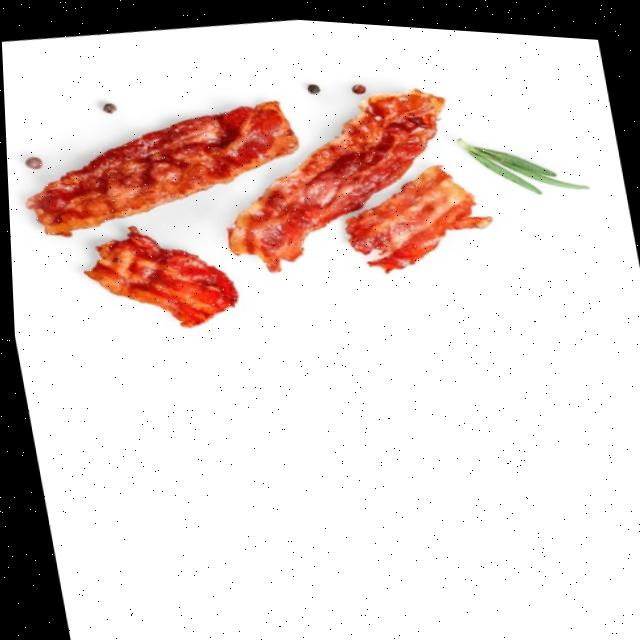Bacon: (226, 84, 442, 269), (26, 98, 295, 235), (345, 161, 490, 266), (82, 225, 234, 325)
